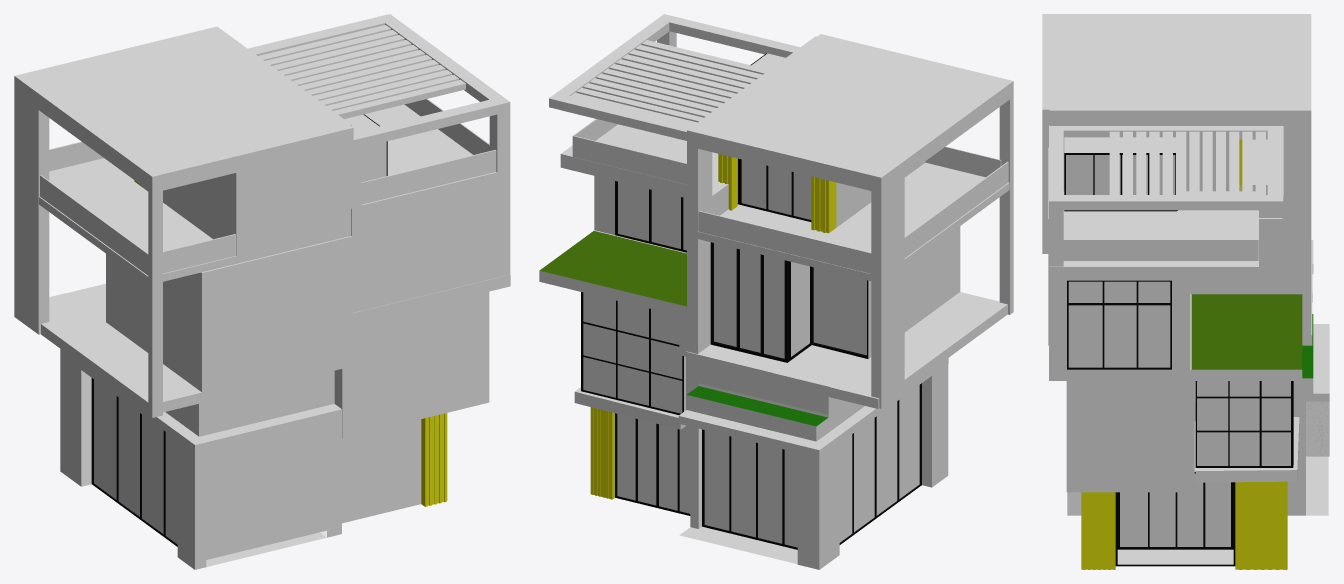
Rendered from villa.fbx.
The picture shows the model from 3 angles, left to right: view 1: azimuth 30°, elevation 25°; view 2: azimuth 150°, elevation 25°; view 3: azimuth 270°, elevation 25°; orthographic projection. The views are drawn at different scales.
Visible parts, largest first — view 1: main area 2nd and 3rd, ground hall, top right, window room, cube 2nd floor, array shi, main pateo or some, top boundry on top, balcony.005, balcony.001, border bw 2nd and 3rd, balcony.002 (+3 smaller); view 2: main area 2nd and 3rd, ground hall, top right, windows 2nd, array shi, window room, main pateo or some, border bw 2nd and 3rd.001, top boundry on top, balcony, balcony.003, balcony.001 (+3 smaller); view 3: main area 2nd and 3rd, window room, main pateo or some, cube 2nd floor, windows 2nd, top boundry on top, border bw 2nd and 3rd.001, array shi, ground hall, balcony.004, small left side, border bw 2nd and 3rd (+2 smaller).
Part boxes in pixels (x1=…): main area 2nd and 3rd: x1=14, y1=26, x2=353, y2=417; ground hall: x1=60, y1=349, x2=341, y2=569; top right: x1=39, y1=145, x2=351, y2=283; window room: x1=351, y1=104, x2=510, y2=312; cube 2nd floor: x1=334, y1=291, x2=489, y2=438; array shi: x1=258, y1=25, x2=465, y2=118; main pateo or some: x1=342, y1=413, x2=447, y2=523; top boundry on top: x1=248, y1=14, x2=510, y2=208; balcony.005: x1=361, y1=149, x2=496, y2=204; balcony.001: x1=40, y1=175, x2=148, y2=275; border bw 2nd and 3rd: x1=352, y1=274, x2=510, y2=324; balcony.002: x1=163, y1=234, x2=235, y2=273; main area 2nd and 3rd: x1=686, y1=34, x2=1013, y2=408; ground hall: x1=678, y1=357, x2=948, y2=569; top right: x1=698, y1=154, x2=1009, y2=281; windows 2nd: x1=574, y1=292, x2=685, y2=429; array shi: x1=571, y1=40, x2=768, y2=125; window room: x1=560, y1=124, x2=718, y2=252; main pateo or some: x1=590, y1=407, x2=690, y2=515; border bw 2nd and 3rd.001: x1=540, y1=231, x2=686, y2=306; top boundry on top: x1=549, y1=14, x2=799, y2=140; balcony: x1=698, y1=211, x2=871, y2=273; balcony.003: x1=572, y1=135, x2=686, y2=184; balcony.001: x1=904, y1=161, x2=1008, y2=257; main area 2nd and 3rd: x1=1042, y1=14, x2=1313, y2=345; window room: x1=1049, y1=191, x2=1258, y2=369; main pateo or some: x1=1081, y1=421, x2=1287, y2=569; cube 2nd floor: x1=1066, y1=381, x2=1194, y2=492; windows 2nd: x1=1195, y1=381, x2=1299, y2=482; top boundry on top: x1=1049, y1=125, x2=1283, y2=266; border bw 2nd and 3rd.001: x1=1191, y1=294, x2=1302, y2=369; array shi: x1=1109, y1=131, x2=1265, y2=194; ground hall: x1=1067, y1=324, x2=1329, y2=515; balcony.004: x1=1063, y1=239, x2=1257, y2=260; small left side: x1=1064, y1=137, x2=1177, y2=211; border bw 2nd and 3rd: x1=1049, y1=294, x2=1302, y2=380.
Size of what is drawn, in the model's own units: 10734 by 11809 by 7573.
